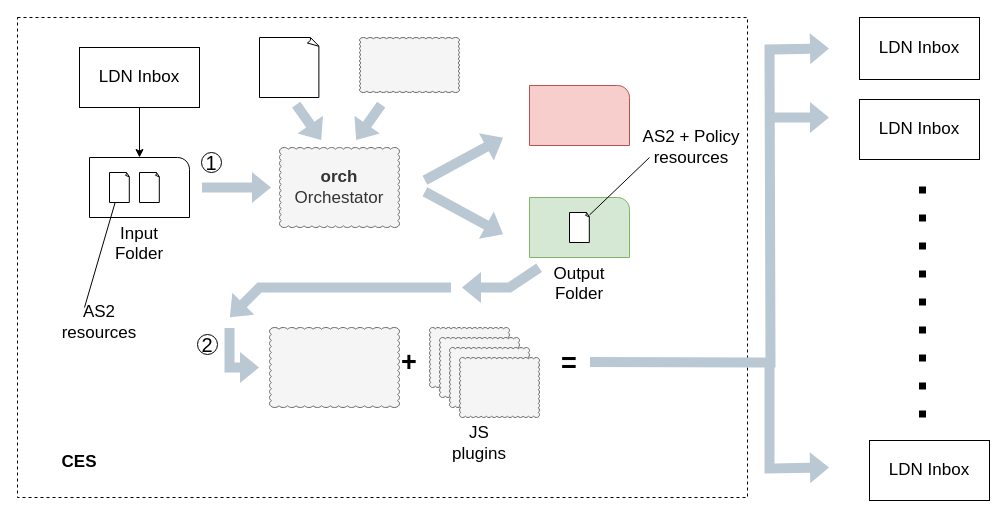
The diagram is 1007 pixels wide and 518 high, and some of its shapes have lost their labels. Here are the shapes that lost their labels. From the top down, the centre of each, then its label:
point 289,67: N3 Rules
point 409,64: Reasoner
point 579,115: Error Folder
point 334,367: pol Policy Executor
